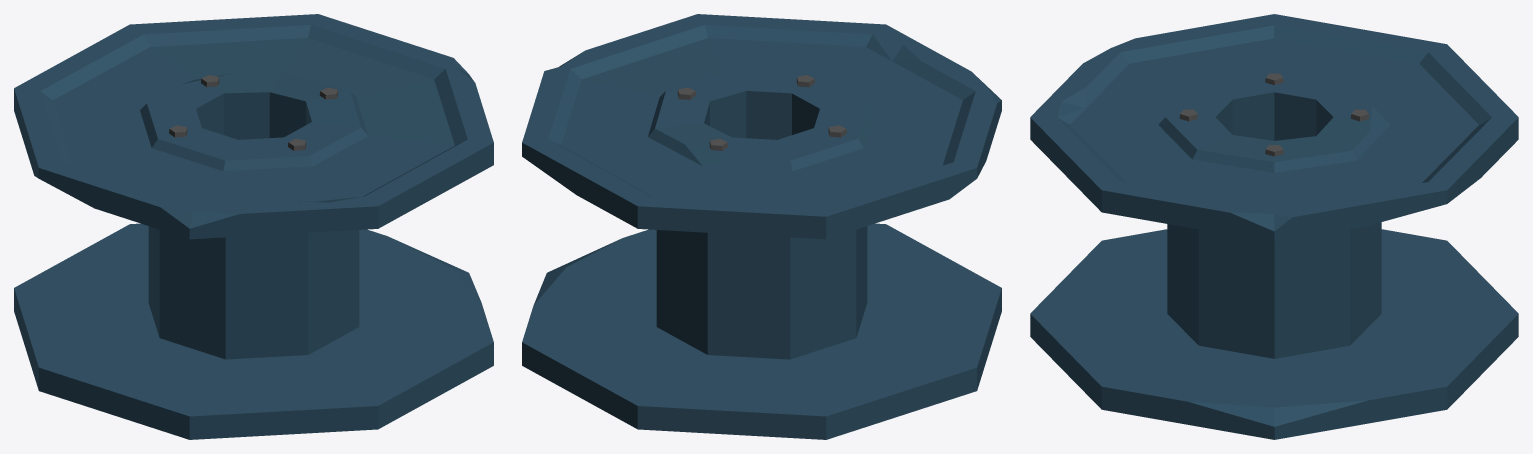
File: SM_Prop_WireSpool_01.glb
3 views of the same model, side by side, from view 1: azimuth 30°, elevation 25°; view 2: azimuth 150°, elevation 25°; view 3: azimuth 270°, elevation 25° (orthographic).
Parts seen in each view (by area): view 1: SM_Prop_WireSpool_01; view 2: SM_Prop_WireSpool_01; view 3: SM_Prop_WireSpool_01.
Part boxes in pixels (<box>): SM_Prop_WireSpool_01: <box>14,14,493,439</box>; SM_Prop_WireSpool_01: <box>522,14,1001,439</box>; SM_Prop_WireSpool_01: <box>1030,14,1518,439</box>.
Bounding box in the file's own units: 0.9662 × 0.5025 × 0.9662.
1 material, 1 textured.
